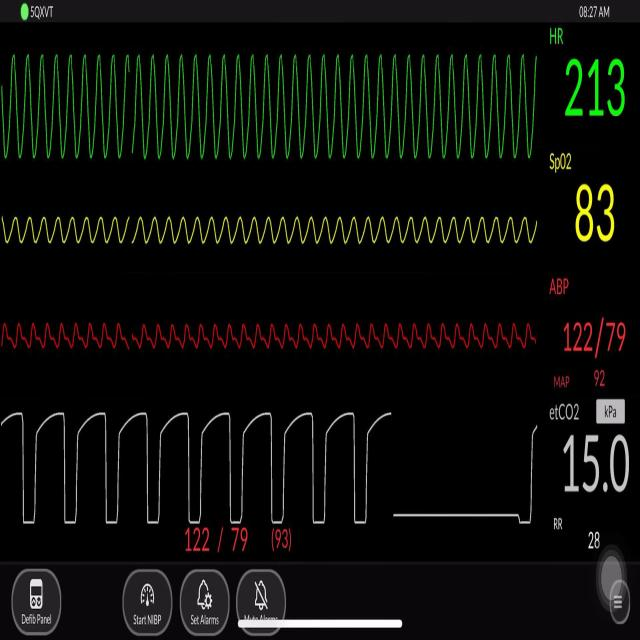danger: (6, 40, 542, 173)
